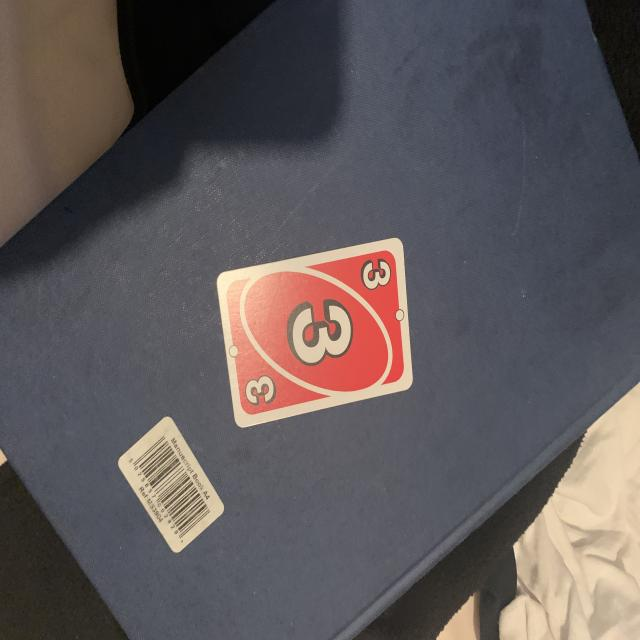lred-3: (354, 252, 396, 294)
